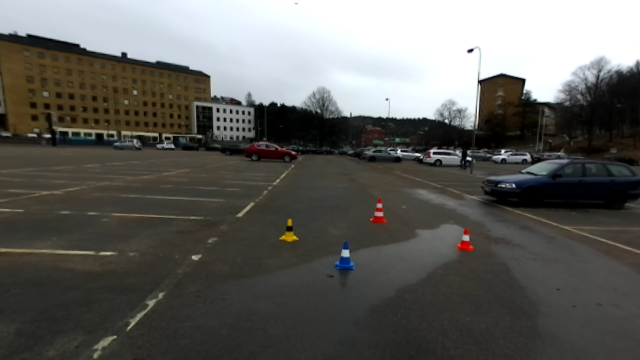blue: (334, 239, 356, 270)
orange: (456, 225, 473, 252)
orange2: (368, 196, 390, 223)
yellow: (276, 215, 299, 242)
